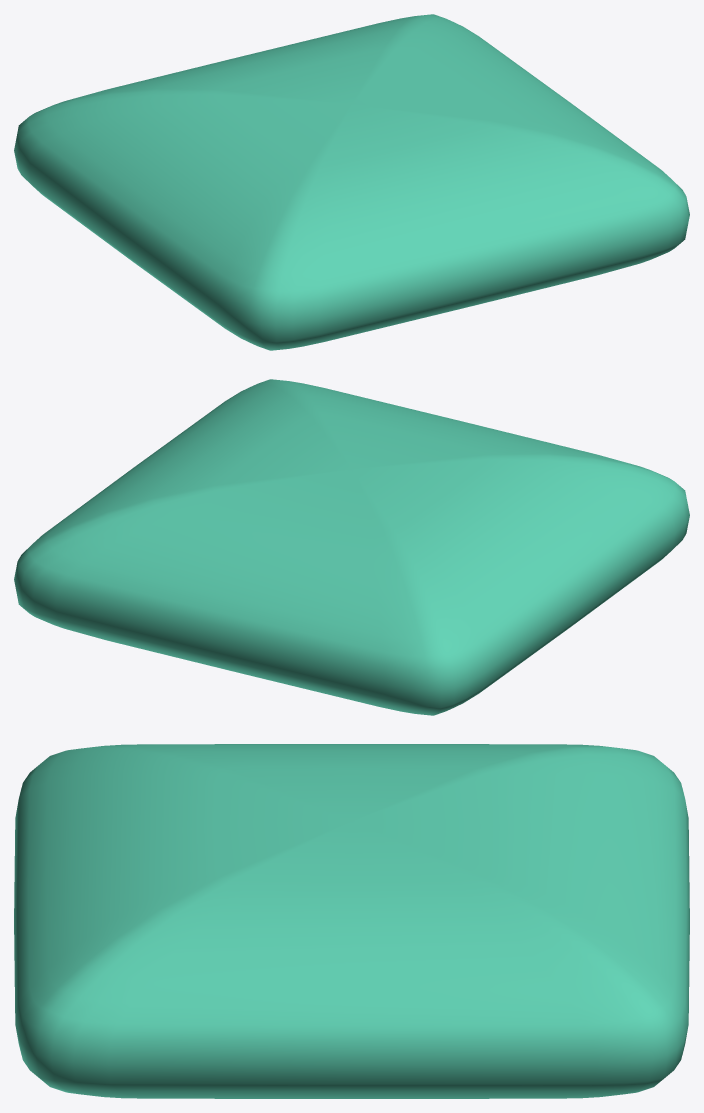
File: almofada_chao_verde.glb
3 renders of one model, top to bottom at view 1: azimuth 30°, elevation 25°; view 2: azimuth 150°, elevation 25°; view 3: azimuth 270°, elevation 25°, orthographic. The views are drawn at different scales.
Visible parts, largest first — view 1: almofada_chao_verde; view 2: almofada_chao_verde; view 3: almofada_chao_verde.
Part boxes in pixels (box(x1,y1,x2,y2)): almofada_chao_verde: box(14, 14, 689, 350); almofada_chao_verde: box(14, 379, 689, 715); almofada_chao_verde: box(14, 744, 689, 1098).
Bounding box in the file's own units: 0.52 × 0.17 × 0.52.
Materials: 1 (1 with a texture image).
